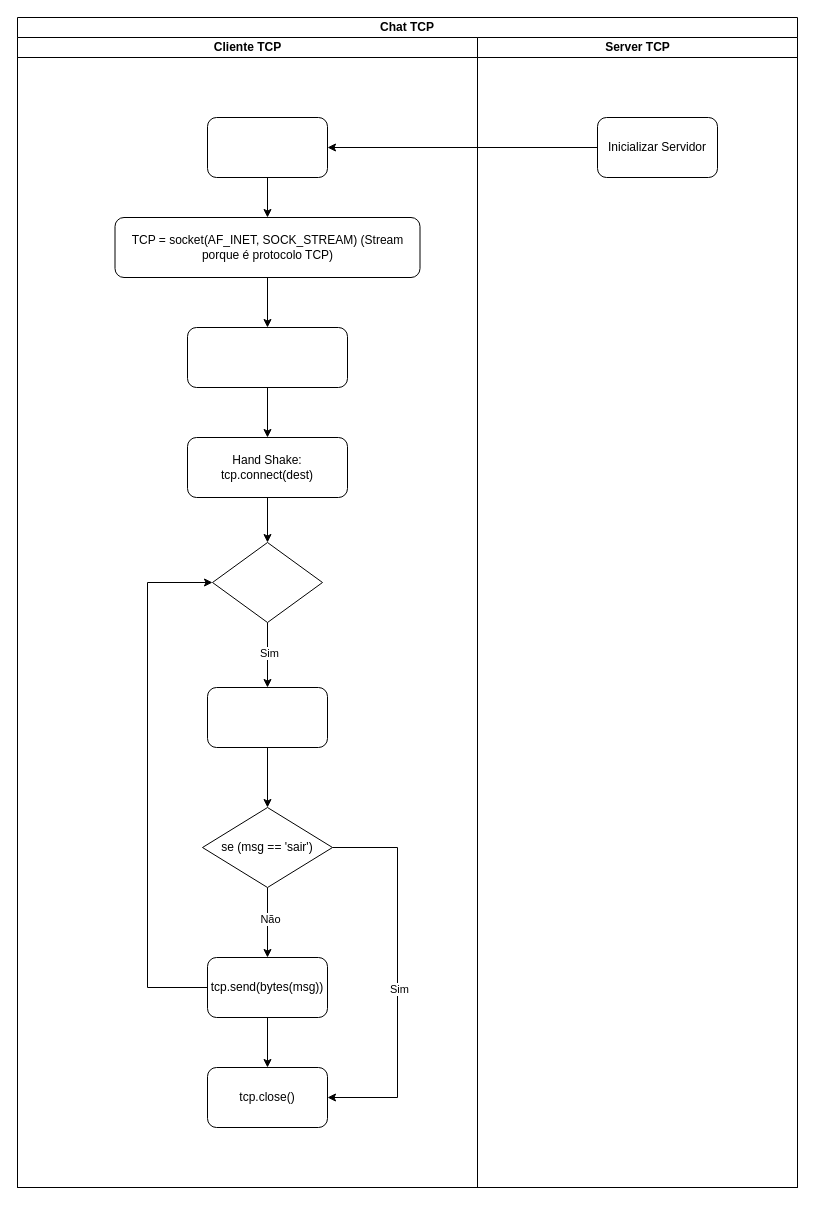
Some shapes in this 815 by 1205 pixel diagram are drawn without their labels. The shapes that lost their labels are listed below. From the top down, each one's centre as x and y in pixels, then its label:
the point at 267,147: Pegar IP e Porta do Servidor
the point at 267,357: Dest = (HOST,PORT)
the point at 267,582: Laço (infinito)
the point at 267,717: msg = input
